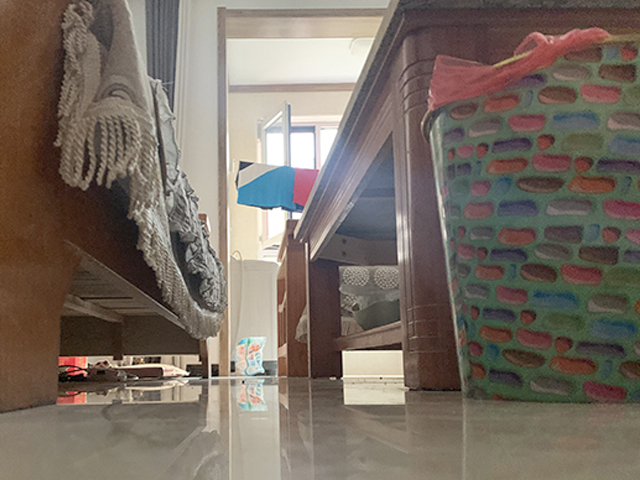sofa: (1, 1, 227, 415)
table: (294, 1, 460, 390)
trashcan: (420, 31, 640, 403)
